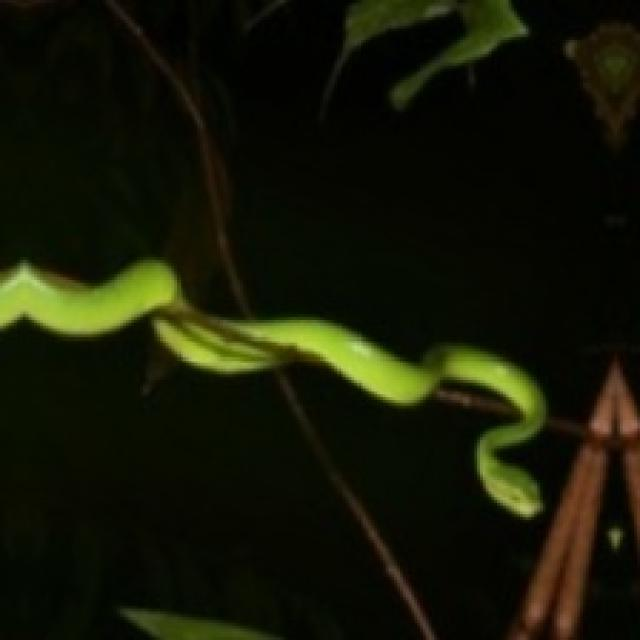north ph temple pitviper: (0, 260, 543, 514)
